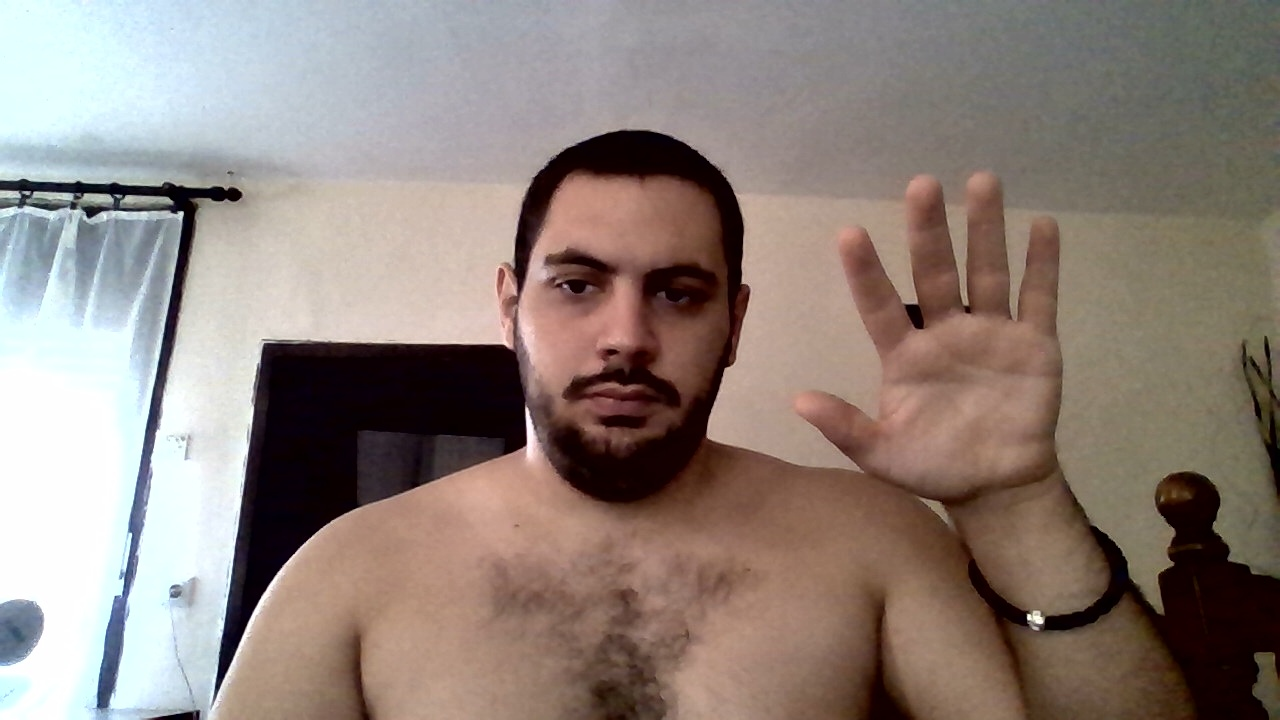palm: (795, 167, 1066, 500)
